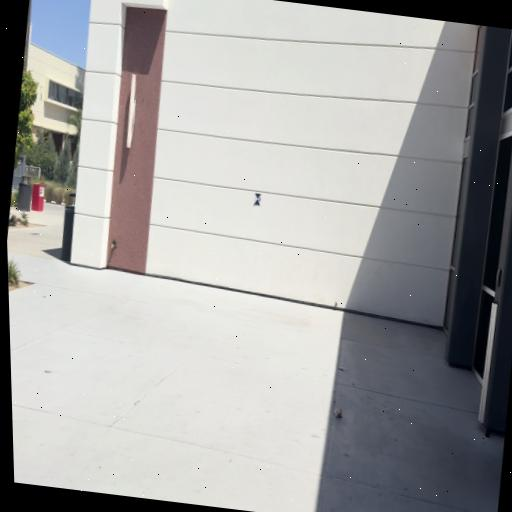target0: (253, 192, 263, 206)
